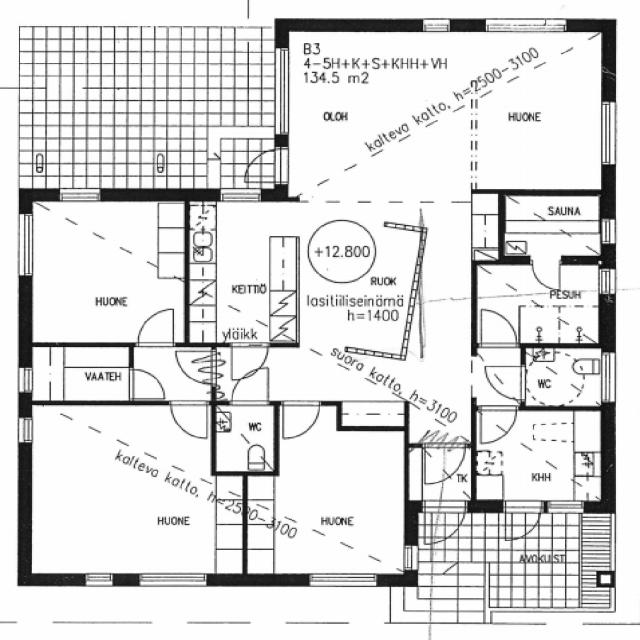door: (478, 360, 524, 446), (130, 304, 182, 352), (240, 147, 290, 192), (473, 306, 522, 349), (422, 439, 467, 484), (278, 398, 324, 441), (166, 398, 212, 440), (480, 360, 528, 400), (475, 404, 520, 446), (173, 346, 219, 387), (500, 498, 546, 538), (126, 365, 170, 401), (228, 372, 273, 406), (228, 340, 270, 376), (528, 257, 565, 291)
window: (478, 15, 572, 38), (274, 44, 295, 140), (12, 209, 39, 283), (597, 96, 621, 173), (304, 570, 382, 590), (597, 348, 621, 408), (134, 570, 213, 588), (53, 182, 108, 207), (212, 187, 266, 206), (594, 265, 621, 299), (596, 213, 620, 251), (14, 412, 36, 448), (542, 498, 588, 514), (15, 363, 36, 398), (80, 570, 120, 588), (417, 16, 456, 34), (401, 542, 419, 574)
zone: (288, 30, 608, 196), (28, 401, 235, 583), (246, 420, 411, 578), (26, 197, 188, 346), (186, 200, 298, 345), (472, 409, 606, 506), (477, 262, 605, 346), (498, 193, 604, 263), (26, 344, 135, 402), (520, 346, 608, 406), (213, 403, 278, 474)
